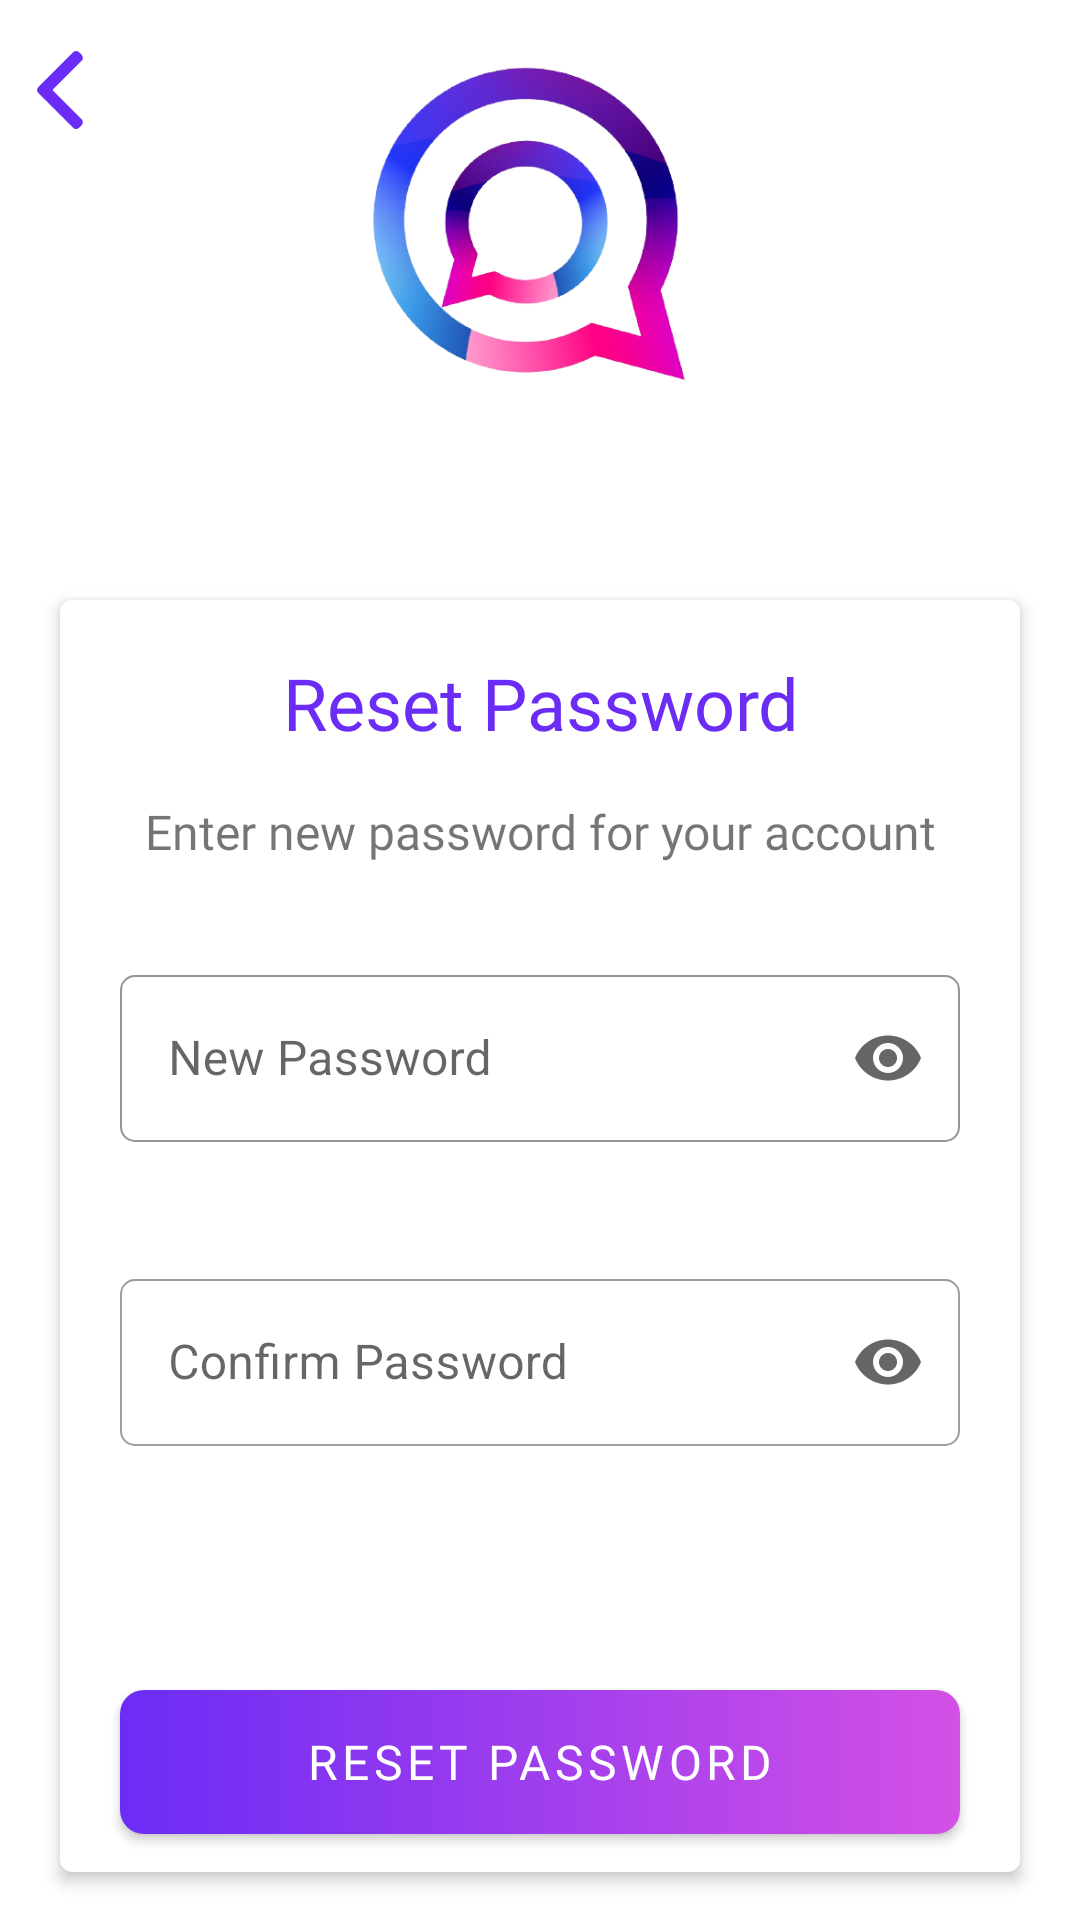

Where icons sit on this 1080px x 1920px app screen, as box(x1, y1, x2, y2):
back: box(37, 51, 83, 129)
